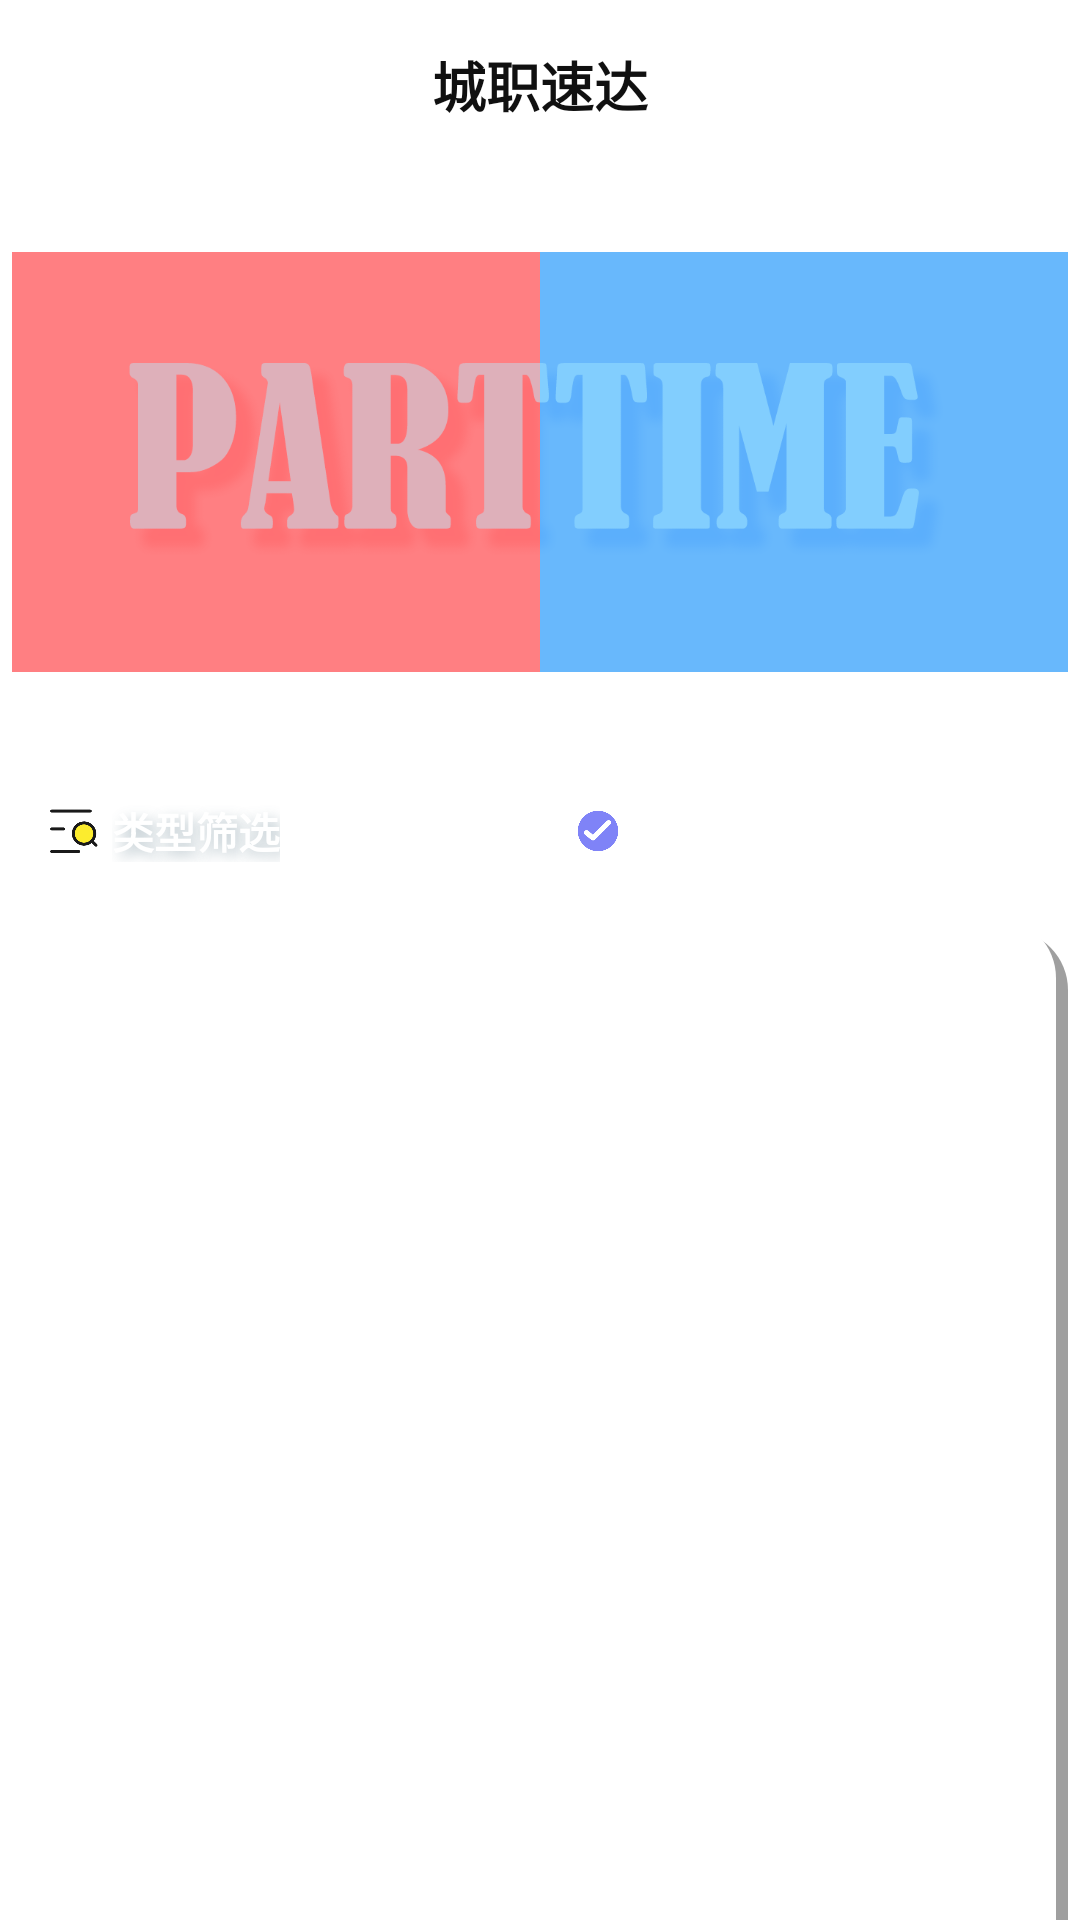

Where to tap for icons on this 1080w x 1920h app screen, as point (x, y):
search: point (74, 831)
search sure: point (598, 831)
